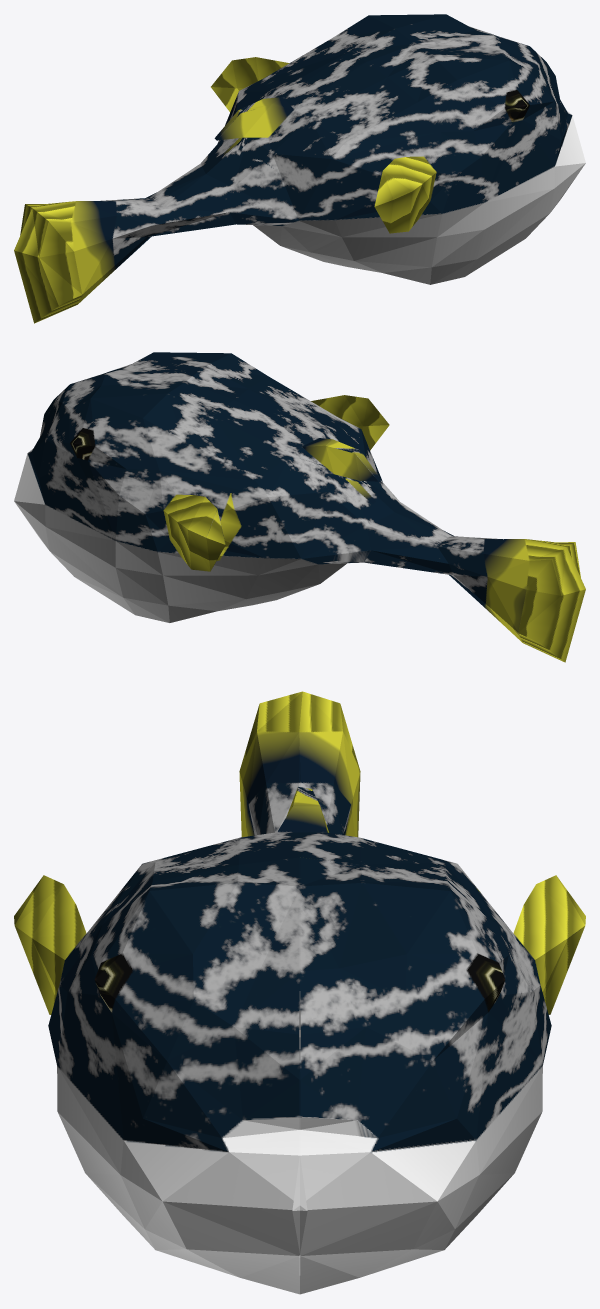
The model's file is PezGlobo.fbx.
3 views of the same model, one above another, from view 1: azimuth 30°, elevation 25°; view 2: azimuth 150°, elevation 25°; view 3: azimuth 270°, elevation 25° (orthographic). The views are drawn at different scales.
Visible parts, largest first — view 1: Cube; view 2: Cube; view 3: Cube.
Part boxes in pixels (x1=…): Cube: x1=14, y1=14, x2=585, y2=323; Cube: x1=14, y1=352, x2=585, y2=662; Cube: x1=14, y1=691, x2=585, y2=1294.
Size of the model in its own units: 279 by 108 by 149.
1 material, 1 textured.
